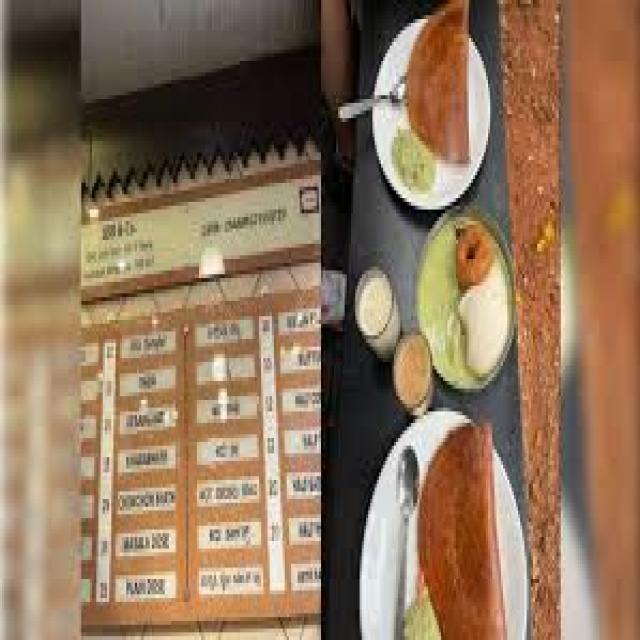DOSA: (420, 427, 505, 636), (411, 0, 467, 160)
